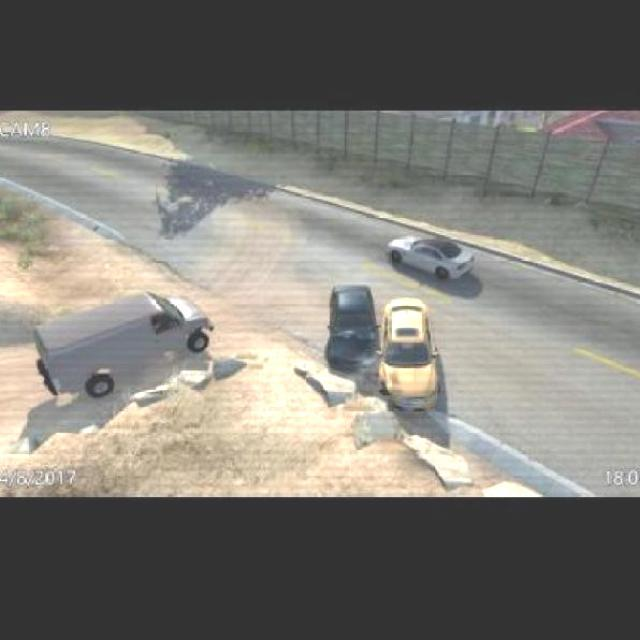accident: (335, 317, 421, 380)
